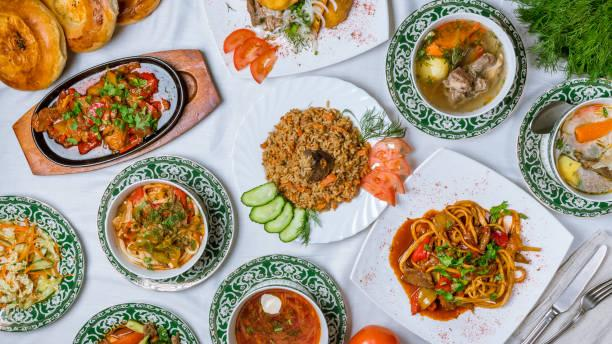Braised Crucian Carp: (351, 149, 573, 344), (223, 74, 395, 246), (385, 1, 527, 142), (97, 154, 232, 289), (30, 55, 185, 168), (203, 0, 388, 80), (516, 77, 610, 219), (208, 254, 346, 344), (0, 193, 86, 332)
